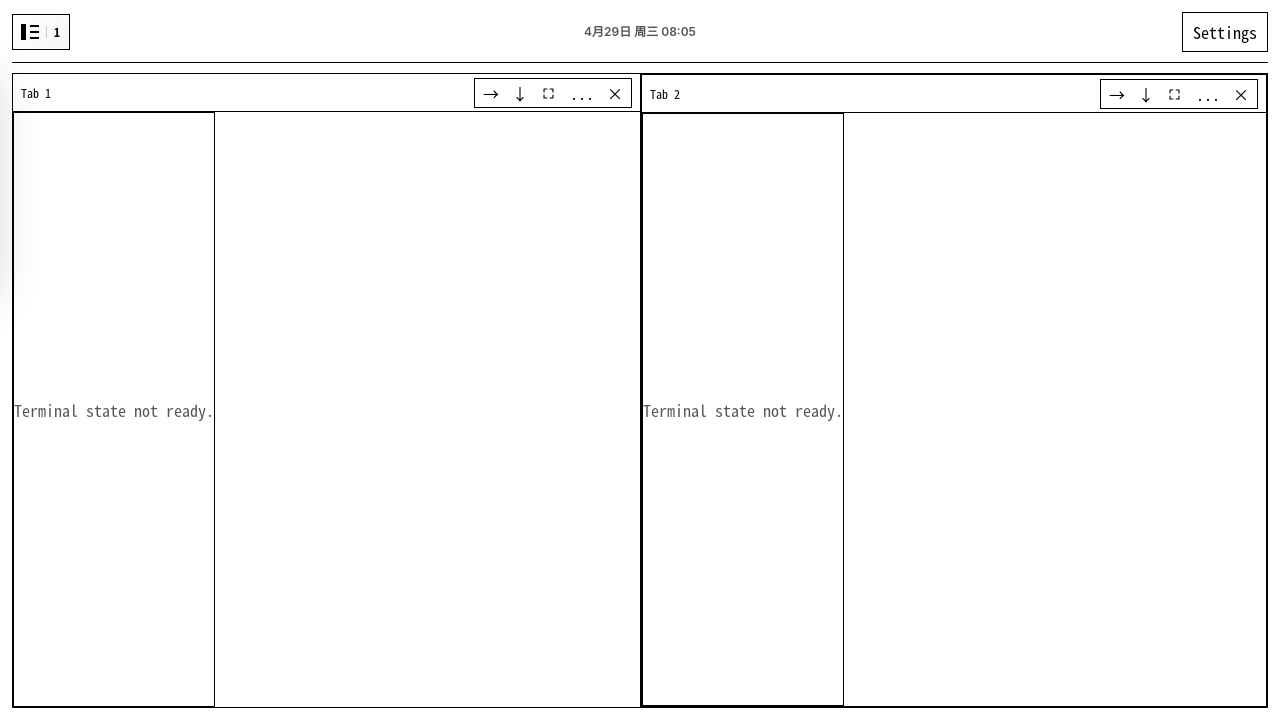
Test: App › uses the top-left workspace logo button instead of the PRAW brand text
Click the button named "Open workspaces": (41, 32) [12,14,70,50]
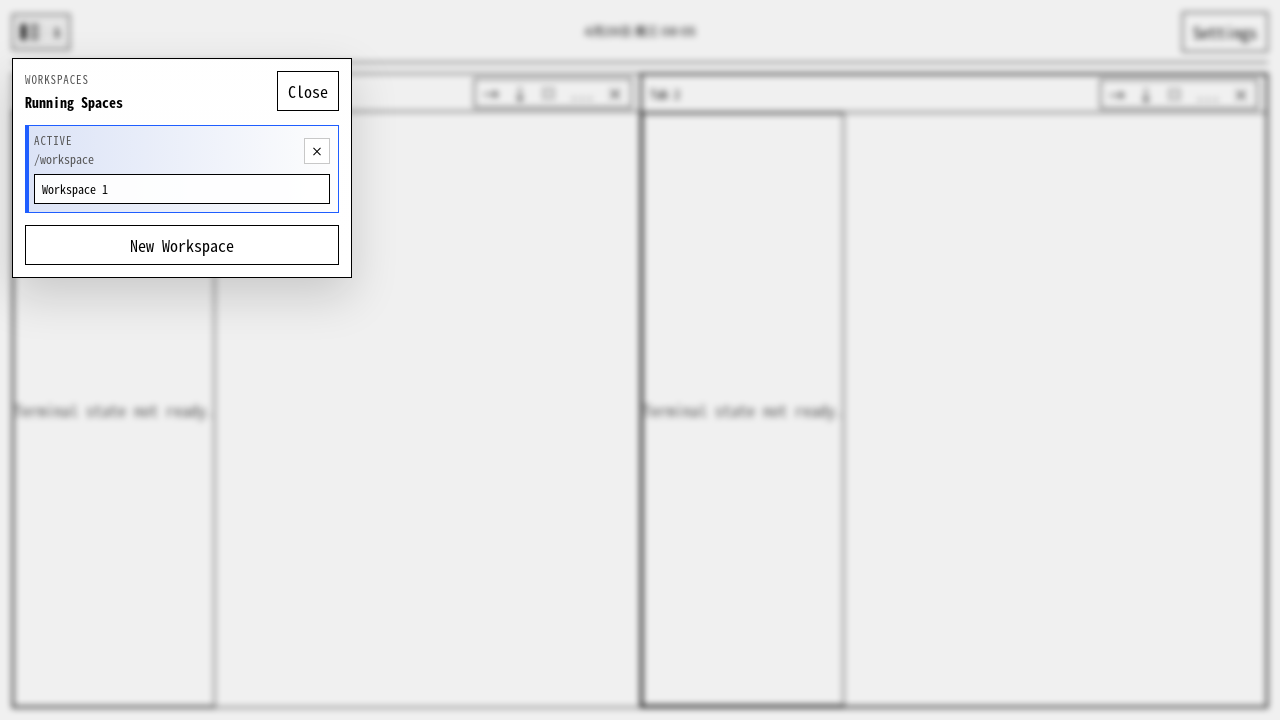
Now the element with class "workspace-switcher-panel--open" is shown, box [12,58,352,278]
